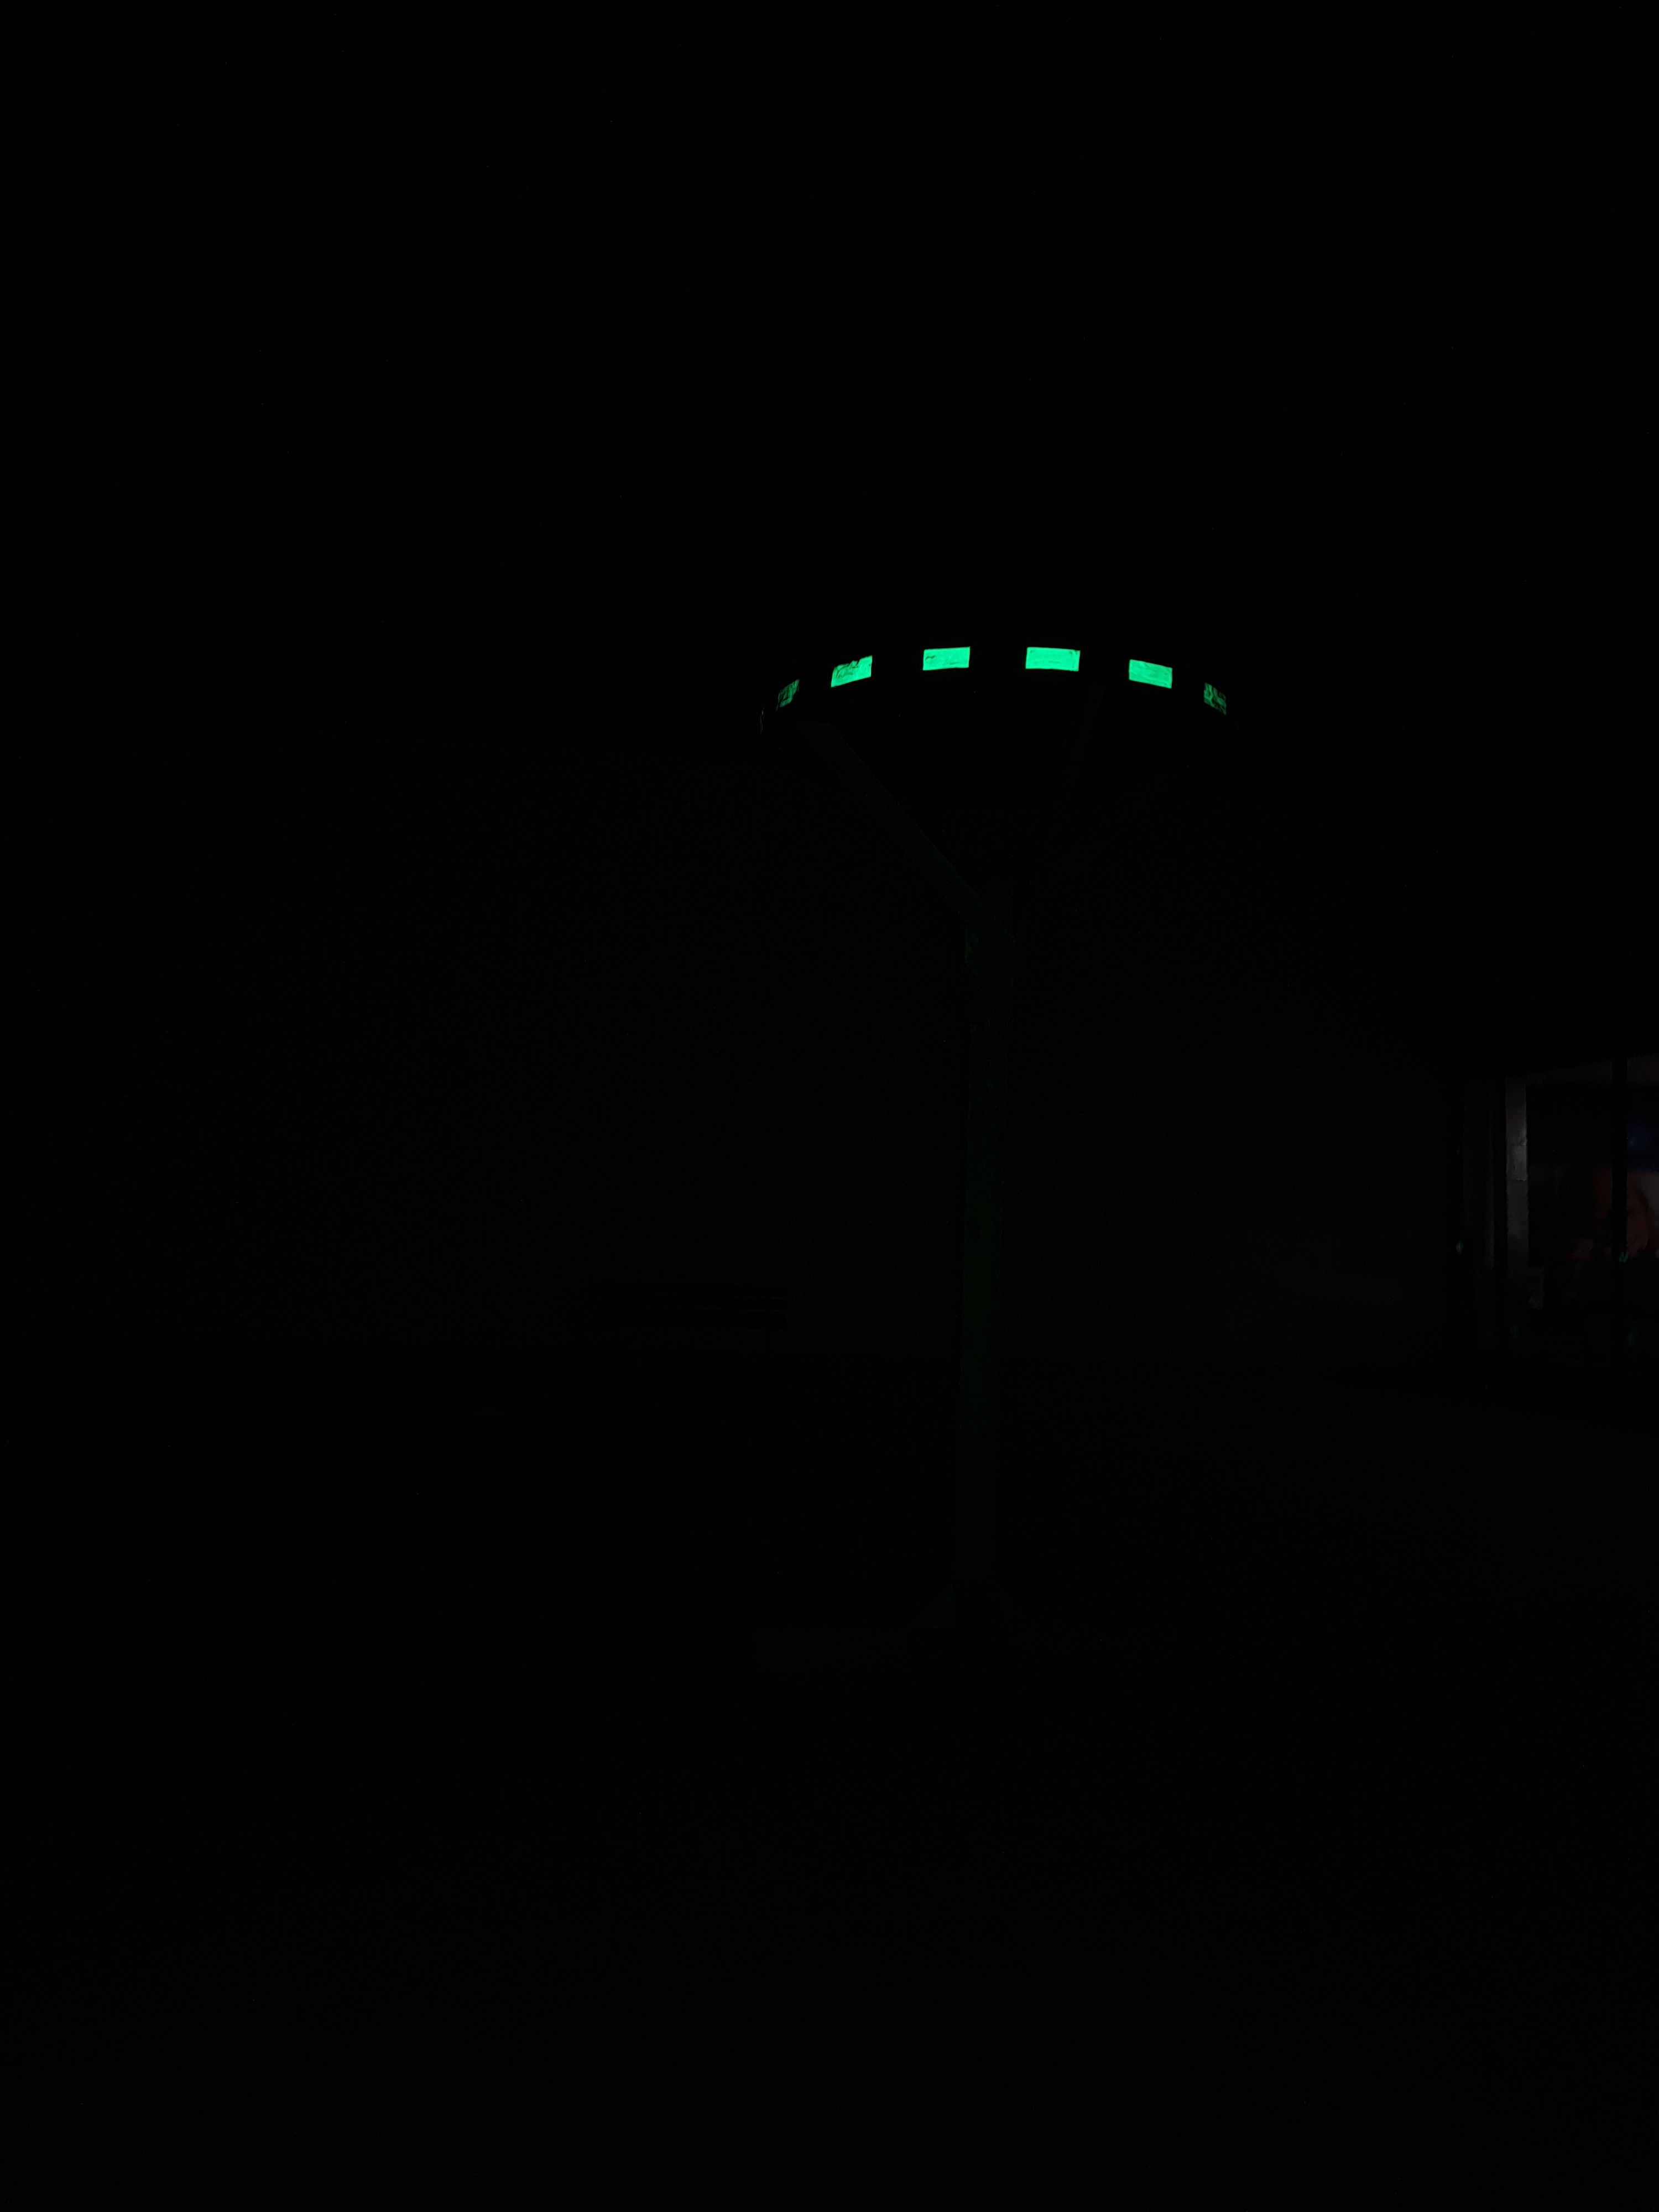hoop: (721, 603, 1274, 742)
